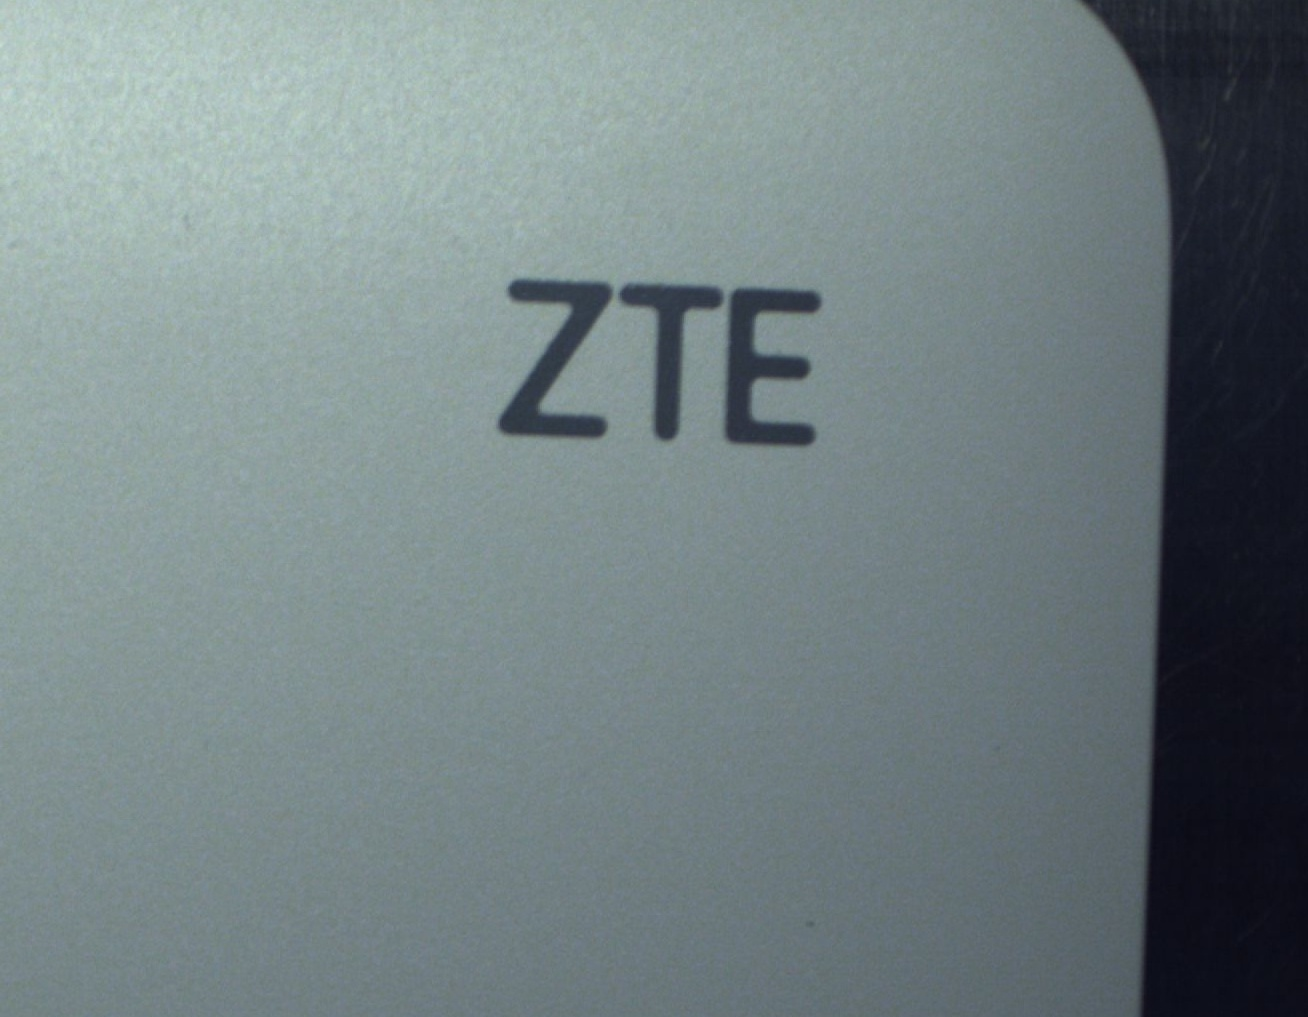AN_ZTE: (458, 251, 855, 475)
